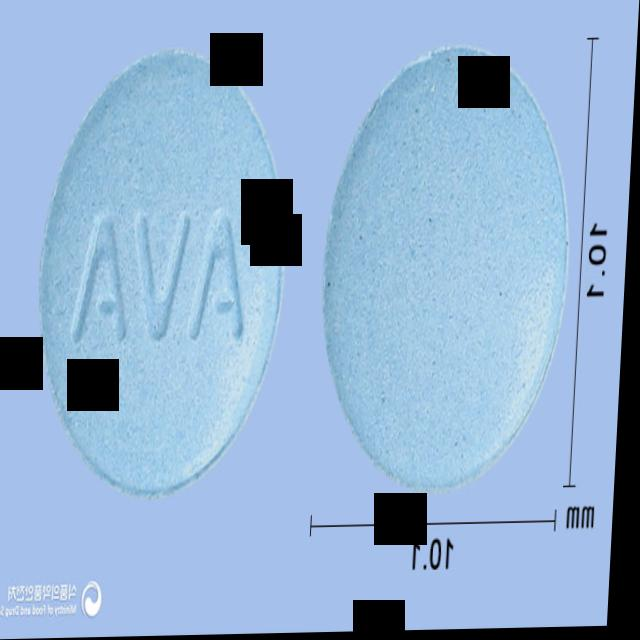Aclova 400mg: (313, 39, 584, 502), (32, 47, 296, 500)
